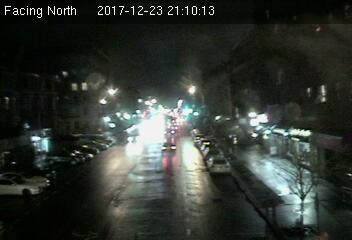car: (206, 157, 231, 173), (160, 141, 177, 153)
